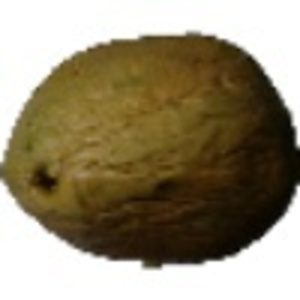mamão: (2, 26, 298, 269)
